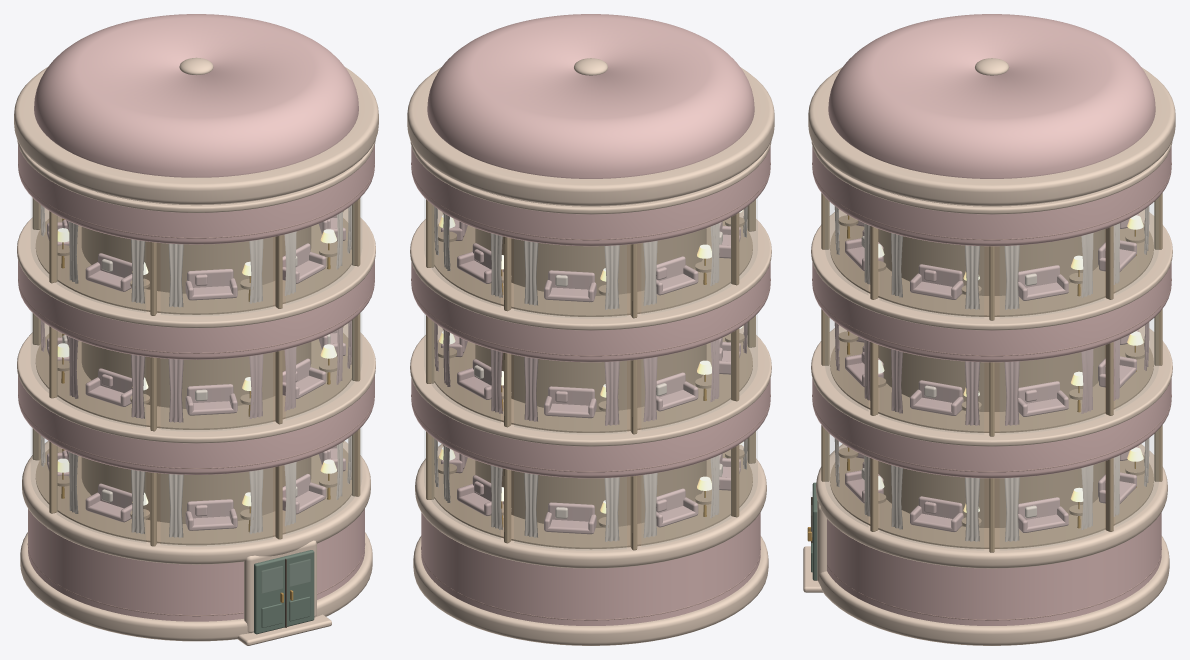
Rendered from central-round-v68.glb.
3 views of the same model, side by side, from view 1: azimuth 30°, elevation 25°; view 2: azimuth 150°, elevation 25°; view 3: azimuth 270°, elevation 25° (orthographic).
Parts seen in each view (by area): view 1: arch59_blush, room59_glass_sage, arch59_pillow_trim, room59_warm_backing, room59_curtain_blush, room59_curtain_ivory, arch59_champagne_frame, Sage painted joinery, Soft blush architectural joints, room59_lamp_glow, Brushed brass; view 2: arch59_blush, room59_glass_sage, arch59_pillow_trim, room59_warm_backing, room59_curtain_blush, room59_curtain_ivory, arch59_champagne_frame, Soft blush architectural joints, room59_lamp_glow; view 3: arch59_blush, room59_glass_sage, arch59_pillow_trim, room59_warm_backing, room59_curtain_blush, room59_curtain_ivory, arch59_champagne_frame, Soft blush architectural joints, room59_lamp_glow, Sage painted joinery.
Boxes of the visible parts, box(x1,y1,x2,y2) form: arch59_blush: box(18, 14, 374, 621); room59_glass_sage: box(31, 197, 361, 592); arch59_pillow_trim: box(14, 57, 378, 645); room59_warm_backing: box(35, 216, 351, 545); room59_curtain_blush: box(40, 215, 351, 530); room59_curtain_ivory: box(40, 205, 351, 538); arch59_champagne_frame: box(32, 198, 360, 546); Sage painted joinery: box(254, 550, 314, 634); Soft blush architectural joints: box(18, 164, 374, 616); room59_lamp_glow: box(57, 228, 336, 506); Brushed brass: box(61, 218, 330, 602); arch59_blush: box(411, 14, 770, 625); room59_glass_sage: box(424, 198, 757, 549); arch59_pillow_trim: box(407, 58, 774, 645); room59_warm_backing: box(434, 217, 752, 549); room59_curtain_blush: box(434, 218, 747, 534); room59_curtain_ivory: box(434, 206, 747, 541); arch59_champagne_frame: box(426, 199, 755, 550); Soft blush architectural joints: box(411, 163, 770, 620); room59_lamp_glow: box(439, 210, 742, 513); arch59_blush: box(812, 14, 1171, 625); room59_glass_sage: box(811, 198, 1158, 549); arch59_pillow_trim: box(803, 58, 1175, 645); room59_warm_backing: box(830, 215, 1153, 548); room59_curtain_blush: box(834, 214, 1149, 532); room59_curtain_ivory: box(834, 206, 1149, 541); arch59_champagne_frame: box(821, 193, 1162, 552); Soft blush architectural joints: box(812, 163, 1171, 620); room59_lamp_glow: box(878, 215, 1143, 512); Sage painted joinery: box(811, 482, 817, 580).
Bounding box in the file's own units: 9.38 × 14.4 × 9.51.
